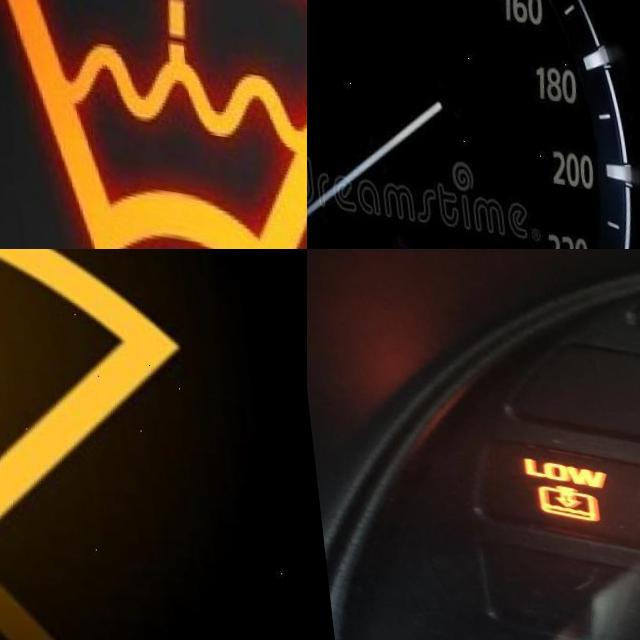Seat Belt: (379, 238, 412, 249)
Washer Fluid: (0, 0, 307, 249), (0, 249, 194, 570)
